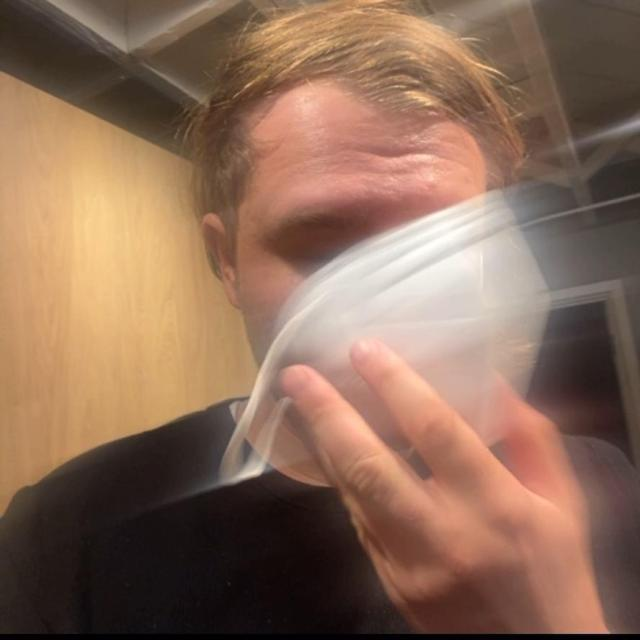no-helmet: (171, 0, 553, 527)
